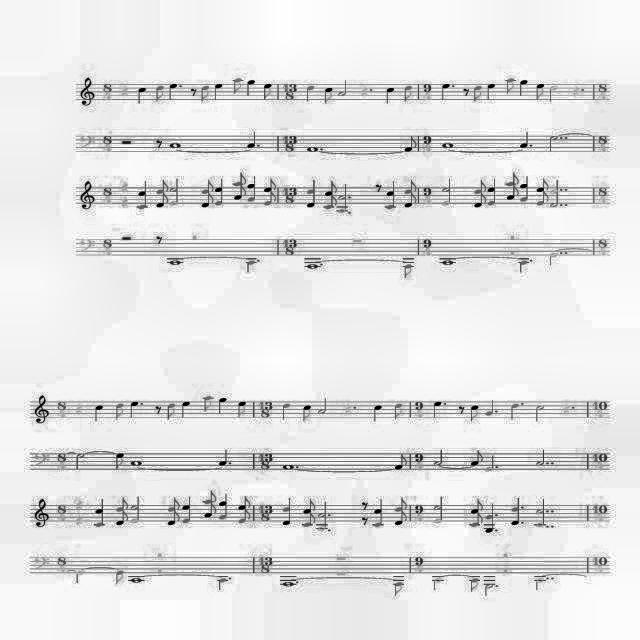Bass-clef: (70, 226, 94, 260), (26, 548, 44, 580), (78, 130, 98, 152), (28, 445, 48, 467)
Eighth-note: (400, 66, 416, 114), (260, 64, 276, 108), (298, 489, 318, 517), (464, 491, 488, 514), (534, 72, 546, 116), (299, 392, 313, 428), (152, 185, 168, 215), (402, 248, 414, 288), (164, 486, 184, 509), (109, 565, 128, 589), (199, 167, 213, 199), (264, 188, 280, 216), (230, 62, 240, 106), (469, 68, 479, 112), (505, 66, 515, 110), (503, 164, 521, 188), (534, 165, 550, 192), (263, 165, 277, 195), (114, 504, 130, 530), (392, 452, 412, 472), (200, 488, 220, 508), (196, 75, 208, 108), (155, 171, 169, 199), (166, 504, 180, 532), (154, 76, 164, 115), (389, 578, 405, 602), (469, 174, 488, 194), (200, 385, 212, 415), (405, 132, 415, 168), (464, 510, 482, 530), (469, 568, 481, 598), (392, 396, 403, 428), (401, 175, 417, 197), (108, 450, 124, 472), (165, 392, 175, 426), (322, 176, 336, 200), (467, 396, 478, 426), (237, 388, 247, 420), (403, 192, 419, 212), (114, 494, 130, 514), (236, 490, 252, 510), (471, 442, 481, 473), (111, 396, 122, 424), (232, 167, 248, 186), (505, 181, 517, 205), (537, 186, 549, 210), (323, 79, 333, 107), (234, 184, 248, 204), (202, 504, 218, 520), (300, 512, 316, 528), (396, 510, 408, 530), (200, 196, 217, 210), (322, 195, 336, 212), (394, 495, 406, 513), (238, 508, 250, 526), (474, 196, 486, 210)
Eighth-rest: (364, 174, 384, 202), (356, 493, 374, 511), (147, 398, 161, 420), (152, 227, 164, 251), (357, 506, 369, 530), (153, 132, 165, 156), (454, 400, 464, 424), (463, 81, 471, 107), (189, 84, 197, 108)
Full-note: (130, 563, 150, 591), (168, 130, 184, 162), (300, 255, 324, 275), (163, 251, 184, 271), (278, 568, 294, 594), (130, 444, 142, 478), (440, 248, 452, 276), (278, 456, 292, 478), (441, 132, 451, 160), (308, 138, 316, 158)
Full-rest: (345, 228, 375, 258), (332, 554, 360, 586), (332, 545, 360, 557)
Half-note: (531, 493, 547, 545), (436, 172, 452, 218), (168, 170, 184, 214), (428, 490, 444, 532), (317, 384, 335, 421), (534, 390, 550, 430), (542, 126, 558, 160), (336, 68, 350, 104), (70, 445, 86, 475), (318, 490, 327, 538), (130, 492, 142, 528), (532, 448, 548, 472), (482, 570, 494, 602), (550, 75, 560, 109), (434, 445, 448, 469), (550, 246, 558, 270)
Half-rest: (116, 115, 138, 157), (116, 232, 136, 248)
Quarter-note: (270, 386, 290, 429), (483, 168, 499, 220), (273, 492, 293, 532), (216, 378, 232, 426), (482, 70, 500, 110), (508, 125, 528, 161), (94, 496, 112, 536), (134, 170, 150, 214), (134, 72, 146, 120), (370, 391, 386, 427), (386, 170, 399, 214), (304, 74, 318, 114), (246, 172, 260, 212), (244, 59, 256, 105), (515, 66, 529, 104), (506, 488, 518, 532), (381, 71, 394, 111), (300, 182, 316, 214), (244, 120, 256, 160), (482, 385, 494, 425), (214, 438, 226, 478), (89, 392, 103, 424), (216, 489, 230, 521), (212, 172, 224, 208), (522, 166, 532, 208), (178, 390, 190, 422), (242, 252, 254, 284), (486, 495, 494, 543), (164, 71, 176, 101), (210, 72, 222, 102), (127, 386, 137, 422), (438, 73, 448, 105), (208, 574, 224, 594), (509, 396, 517, 434), (515, 250, 527, 274), (184, 496, 192, 528), (435, 388, 441, 424)
Treble-clef: (22, 368, 54, 436), (76, 57, 96, 125), (32, 484, 48, 536), (76, 172, 96, 212)
